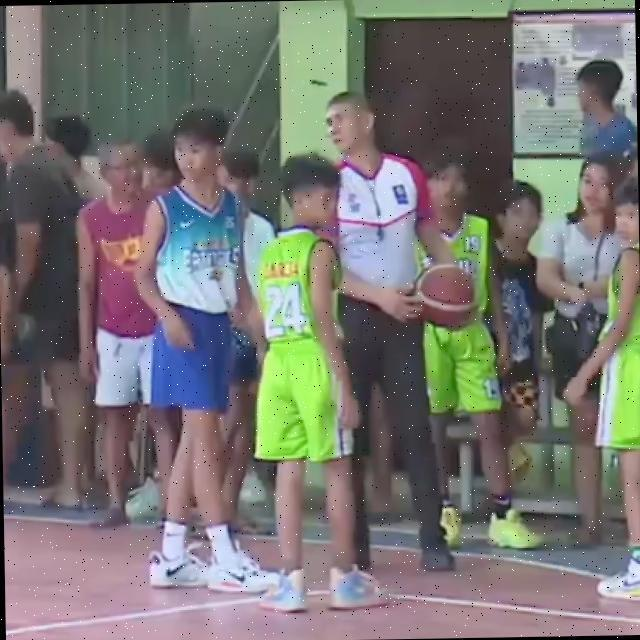ball: (408, 260, 486, 342)
